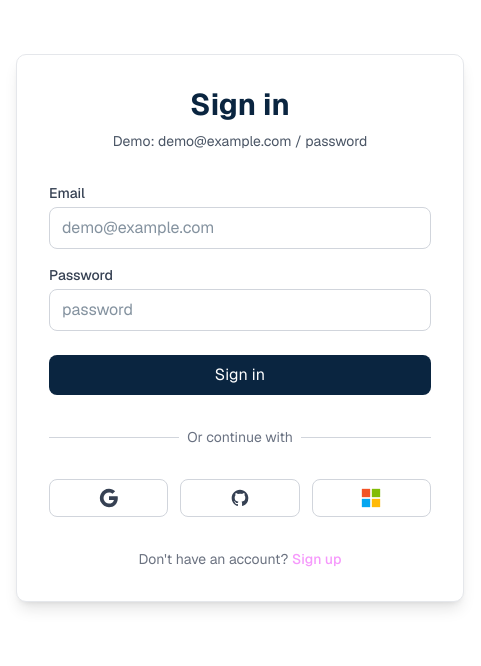
Test: LoginPage Component › should display error message on failed login
In the field labelled "Email": (240, 228) [49,207,431,249], type "wrong@example.com"
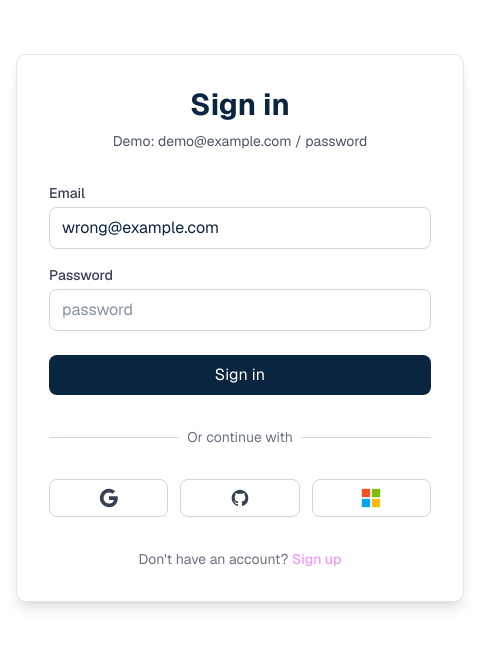
In the password field labelled "Password": (240, 310) [49,289,431,331], type "wrongpassword"
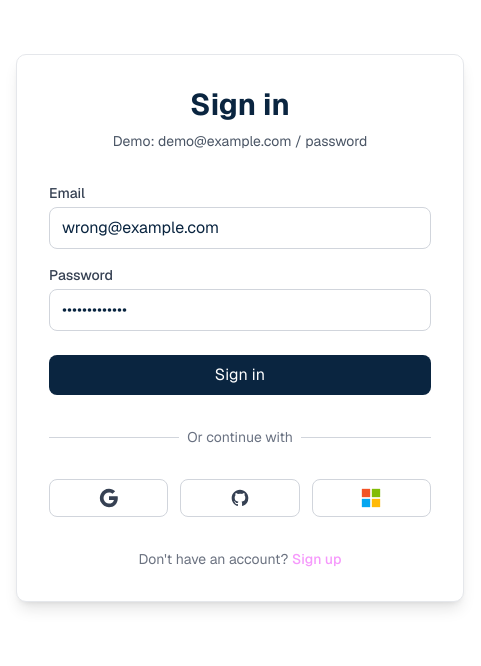
Click the button "Sign in": (240, 375) [49,355,431,395]
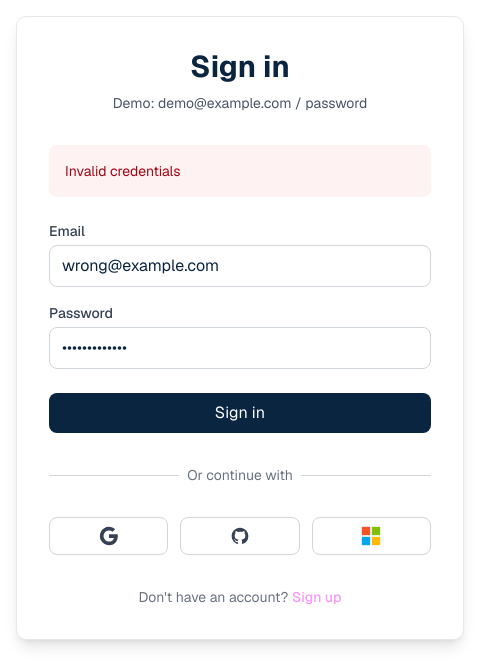
Expected: the text "Invalid credentials" is shown, [49,145,431,197]
